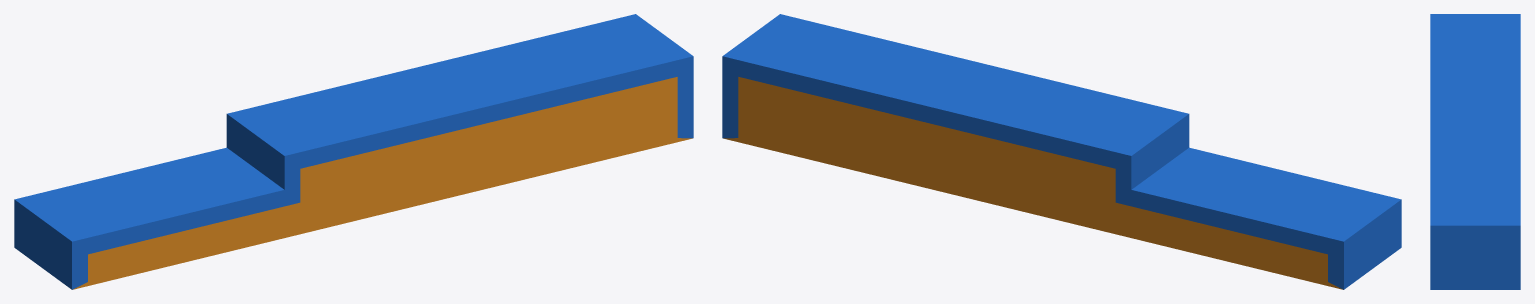
File: StreetPlatform1.fbx
3 renders of one model, left to right at view 1: azimuth 30°, elevation 25°; view 2: azimuth 150°, elevation 25°; view 3: azimuth 270°, elevation 25°, orthographic. The views are drawn at different scales.
Parts seen in each view (by area): view 1: StreetPlatform1; view 2: StreetPlatform1; view 3: StreetPlatform1.
Boxes of the visible parts, x1,y1,x2,y2 form: StreetPlatform1: [14, 14, 693, 289]; StreetPlatform1: [722, 14, 1401, 289]; StreetPlatform1: [1430, 14, 1520, 289].
Size of the model in its own units: 9238 by 1167 by 1486.
